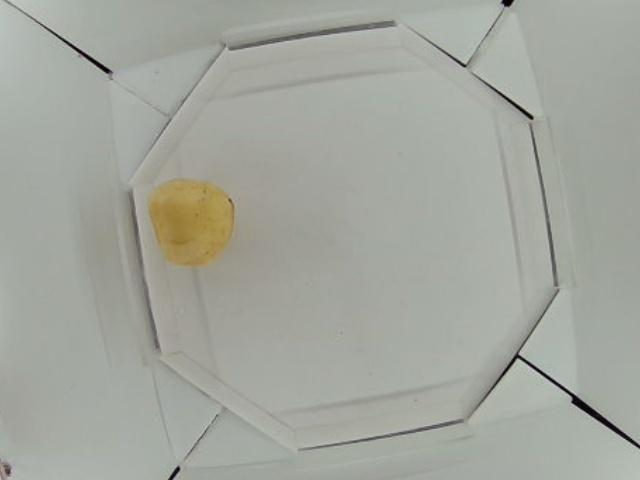Potato: (154, 180, 236, 263)
